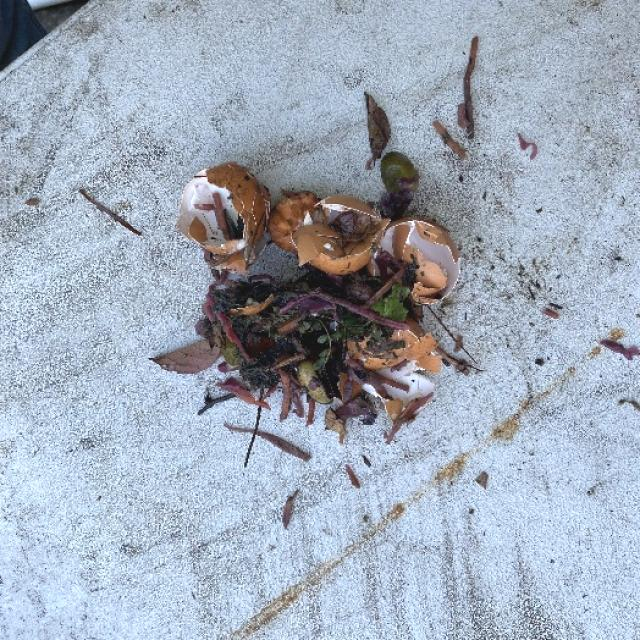wet: (368, 38, 480, 179), (201, 276, 306, 385), (177, 160, 272, 270), (413, 260, 447, 292)
